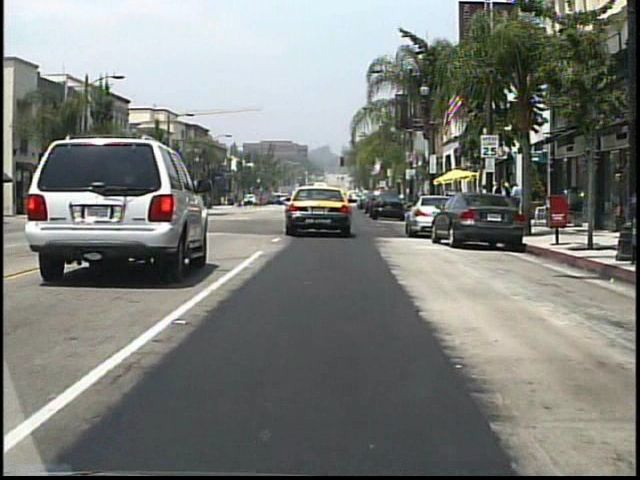person: (493, 177, 511, 214), (508, 180, 523, 223), (490, 180, 504, 217), (503, 183, 514, 216), (275, 190, 282, 206)
